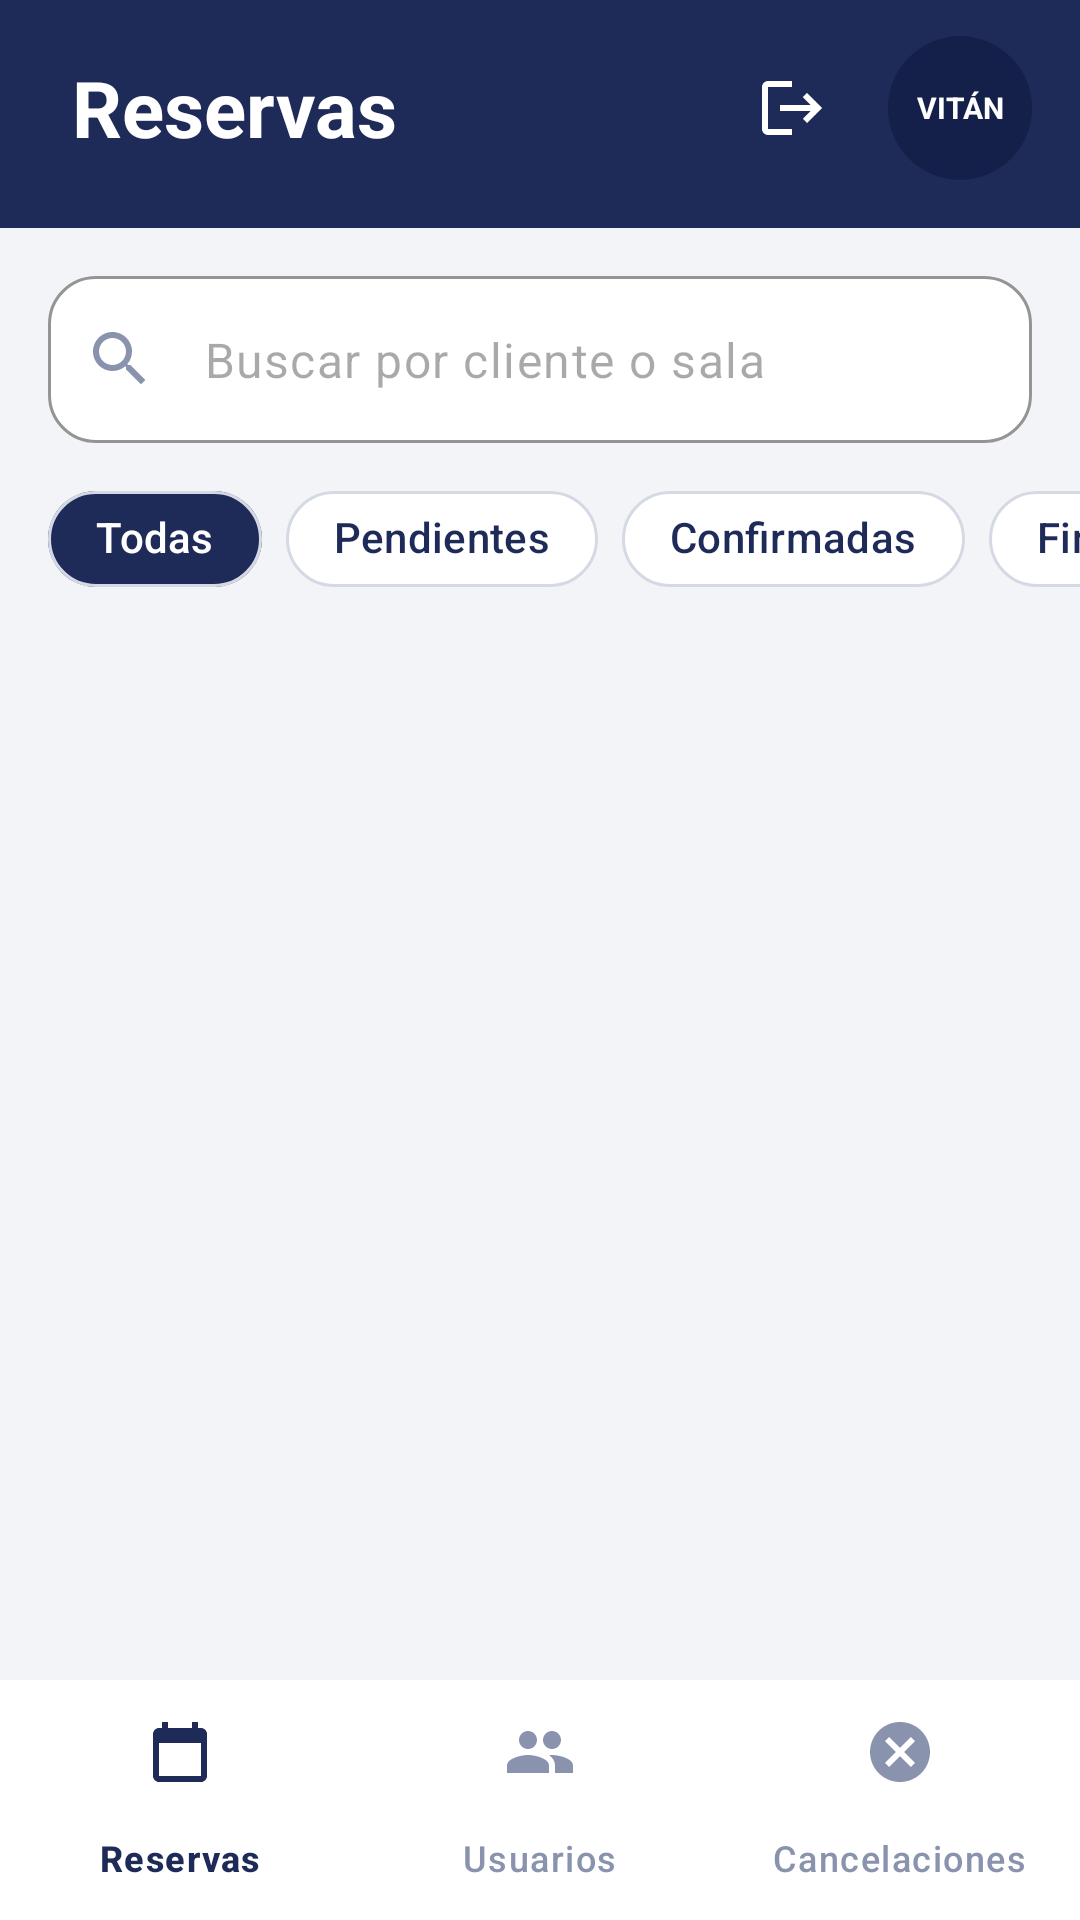

Icons on this 1080px×1920px Android screen, each with its box as (x1, y1, x2, y2):
Cerrar sesión: (762, 81, 822, 135)
